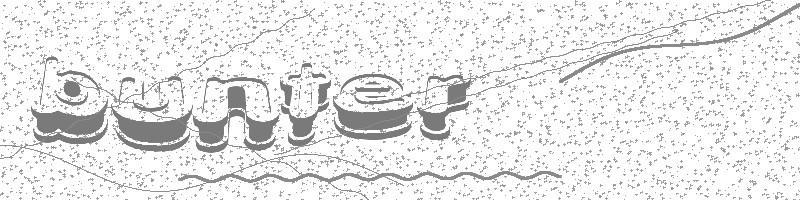b: (28, 54, 112, 144)
e: (333, 71, 416, 142)
n: (193, 75, 282, 155)
r: (418, 71, 471, 140)
t: (279, 59, 333, 145)
u: (113, 73, 192, 152)
